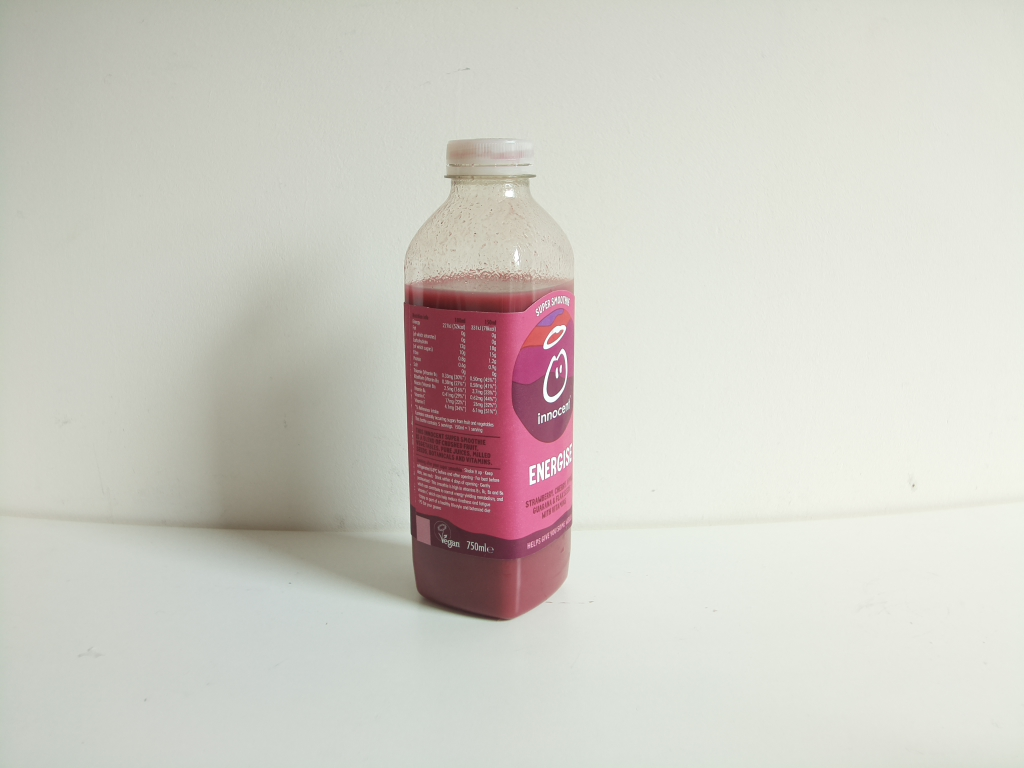juice: (396, 126, 591, 628)
